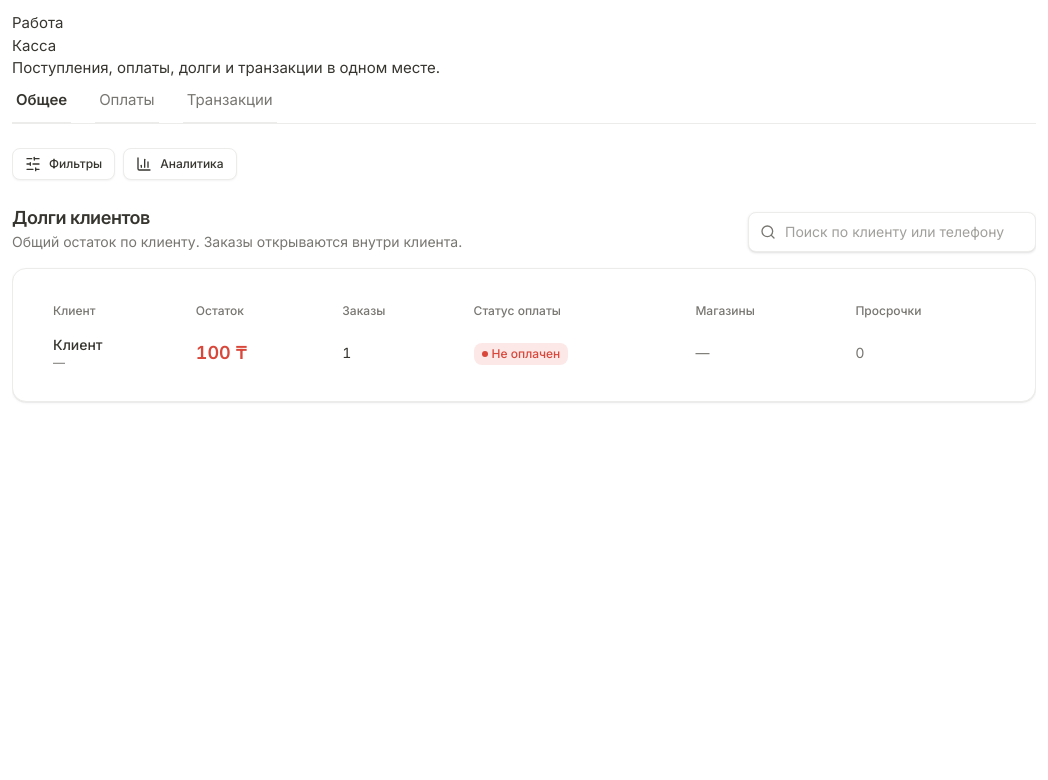
gives a cashier locked to a department the queue of every department and links only own orders
Click the tab "Оплаты" at (127, 102), box [95,80,159,124]
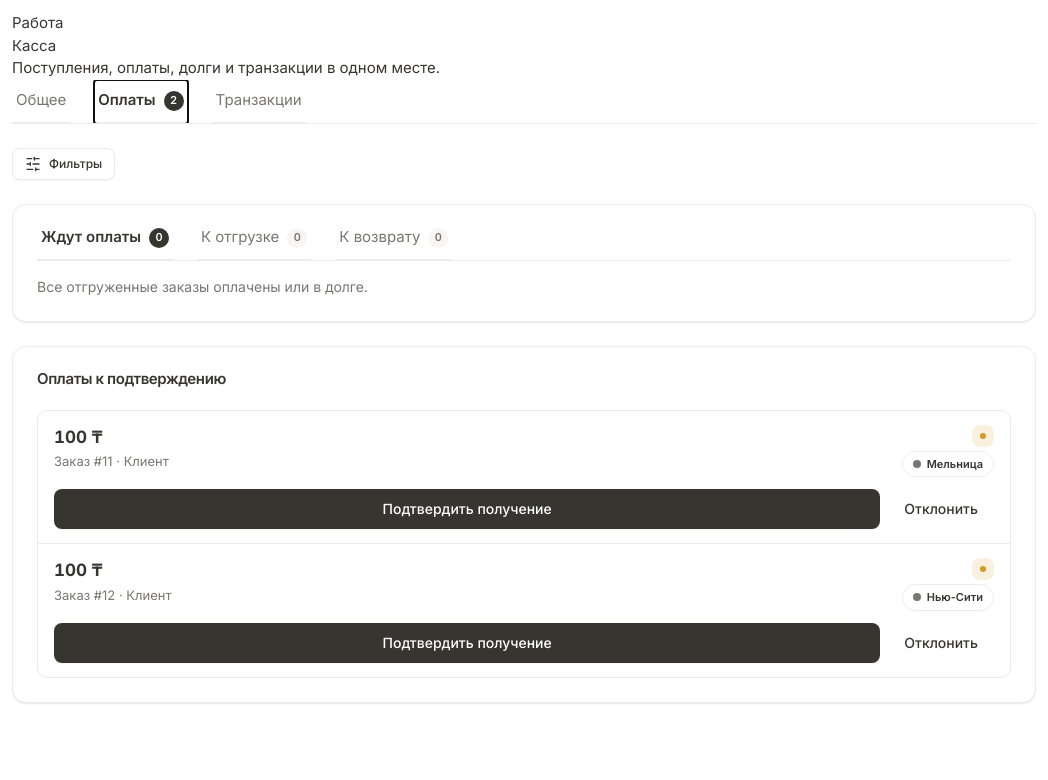
Expected: the link "Заказ #11" is shown, [54,453,113,469]
Expected: the text "Нью-Сити" is shown, [927,589,983,606]
Expected: the text "Заказ #12" is shown, [54,586,115,602]
